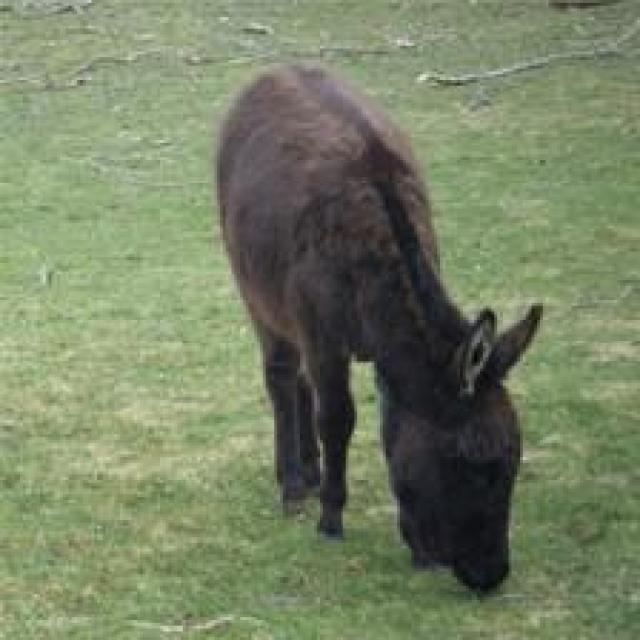Donkey: (211, 60, 543, 591)
